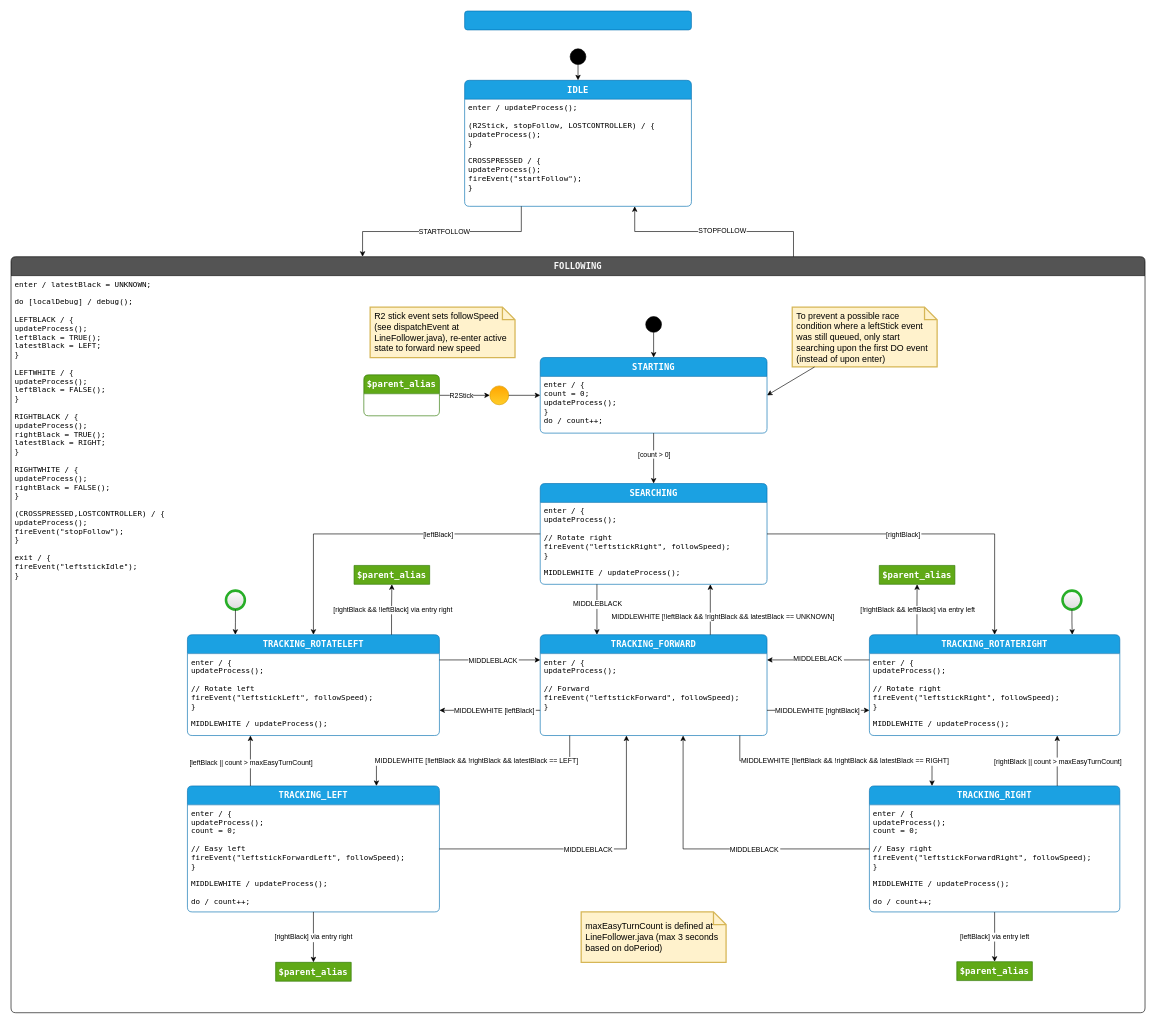
This 1156x1024 diagram has some shape labels left out. Here are the shapes that lost their labels. From the top down, the centre of each, then its label:
pixel 577 20: $STATEMACHINE : {fileName}
pixel 499 395: $ H
pixel 235 599: entry : left
pixel 1071 599: entry : right
